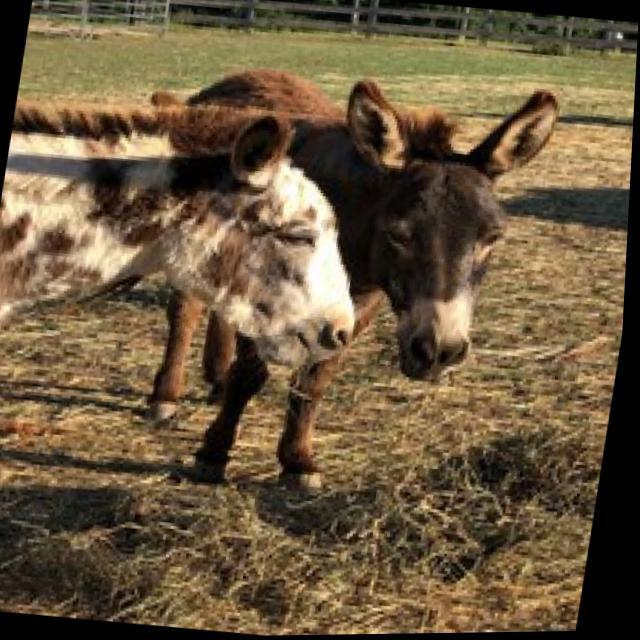Donkey: (94, 46, 566, 512), (0, 81, 387, 498)
